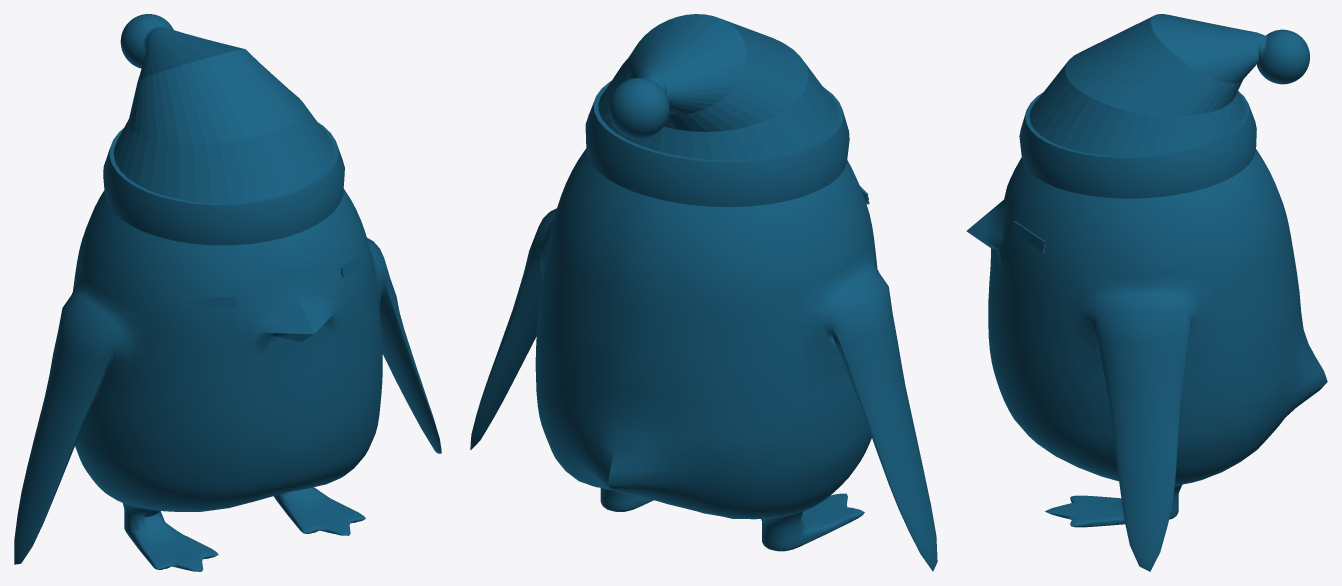
The model's file is penguin_blue_idle_05f.fbx.
The picture shows the model from 3 angles, left to right: view 1: azimuth 30°, elevation 25°; view 2: azimuth 150°, elevation 25°; view 3: azimuth 270°, elevation 25°; orthographic projection. The views are drawn at different scales.
Visible parts, largest first — view 1: ppp_5, bousi, ai; view 2: ppp_5, bousi; view 3: ppp_5, bousi.
Boxes of the visible parts, x1,y1,x2,y2 form: ppp_5: [14, 188, 441, 571]; bousi: [103, 14, 344, 245]; ai: [181, 249, 367, 307]; ppp_5: [470, 148, 937, 571]; bousi: [585, 14, 849, 206]; ppp_5: [966, 149, 1327, 571]; bousi: [1019, 14, 1309, 198].
Size of the model in its own units: 19.25 by 20.12 by 14.51.
1 material, 1 textured.
